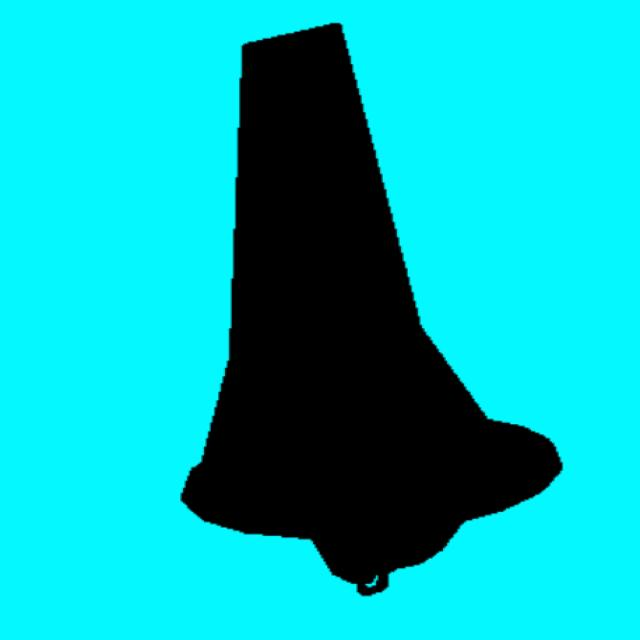BlackBuoy: (182, 24, 561, 599)
